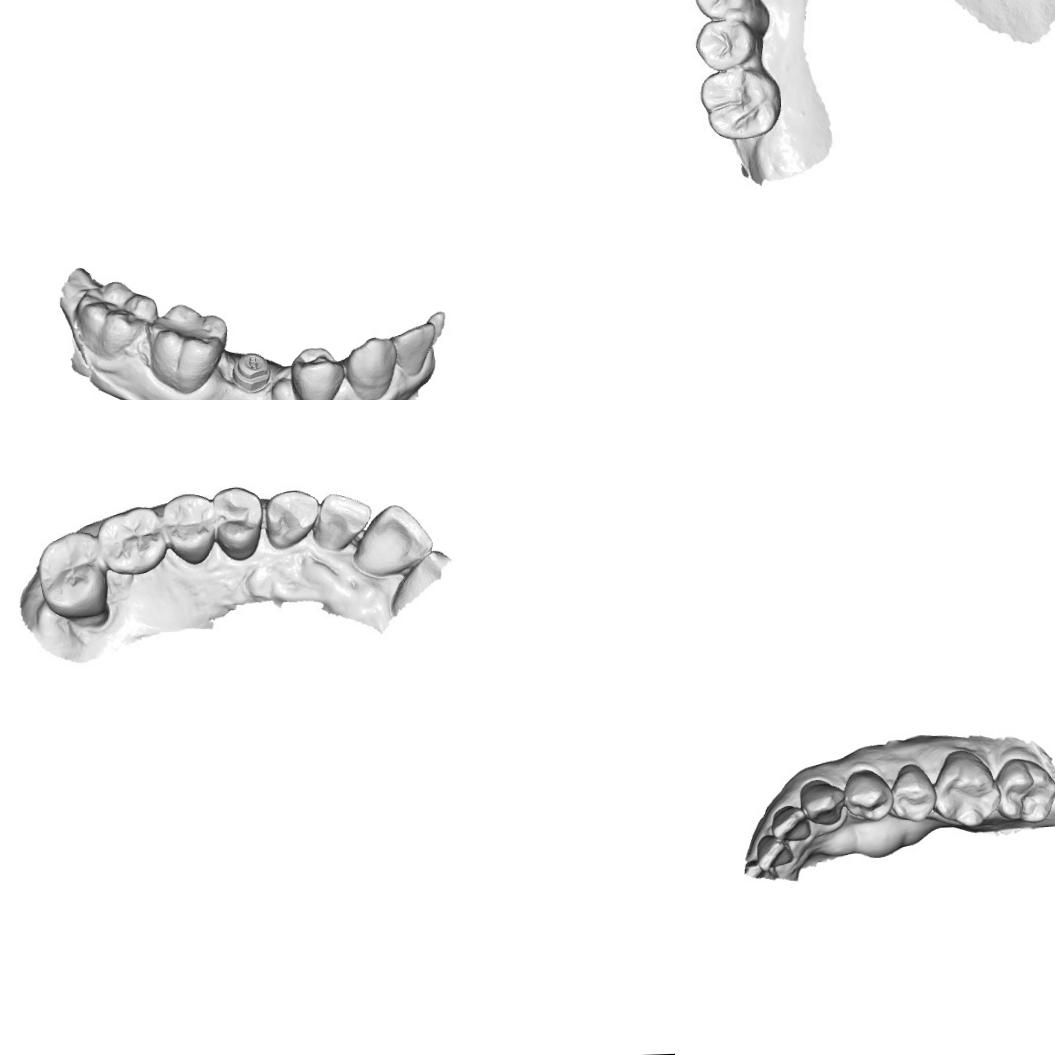canine: (342, 332, 400, 400), (263, 484, 319, 550), (798, 776, 846, 826)
implant_minus: (229, 350, 274, 395)
incisor: (348, 499, 434, 578), (311, 492, 374, 554), (390, 320, 438, 379), (770, 803, 811, 842), (756, 833, 795, 872)
molar: (144, 300, 232, 398), (72, 278, 162, 361), (32, 527, 110, 622), (932, 748, 1002, 829), (96, 503, 172, 574), (702, 70, 776, 136), (992, 756, 1055, 824)
premolar: (209, 483, 265, 564), (159, 490, 218, 566), (286, 344, 347, 400), (888, 762, 938, 823), (694, 22, 756, 70), (842, 768, 895, 822), (692, 0, 754, 24)
